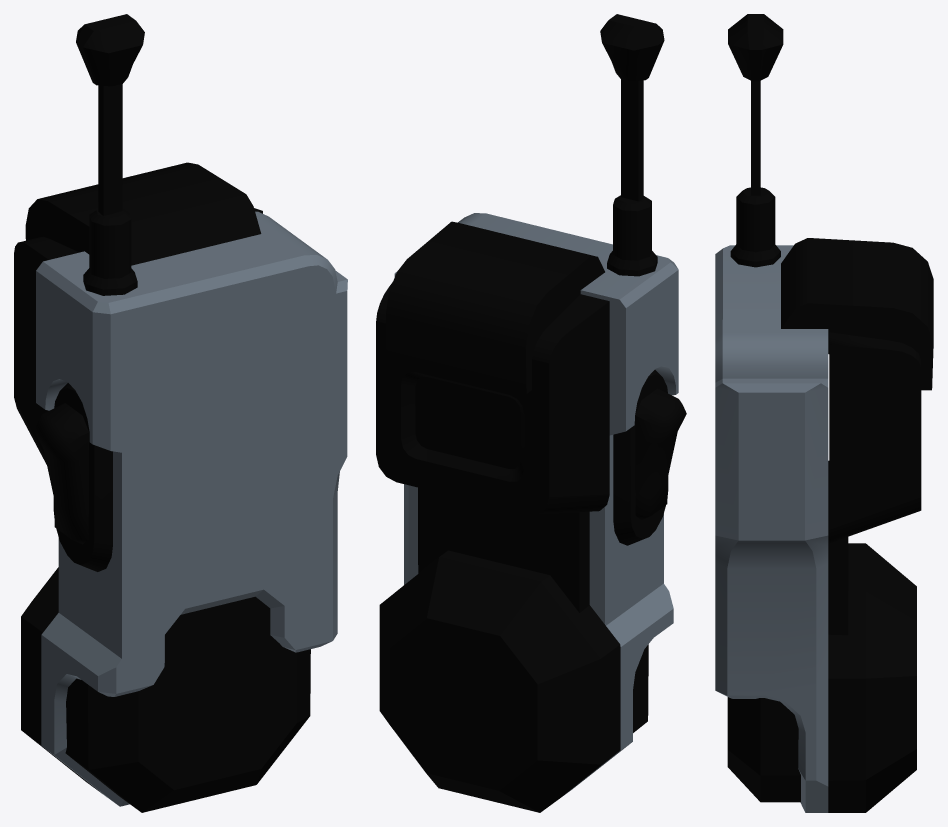
File: eff_2deffectmeshes_walkytalky_pose0.fbx
3 views of the same model, side by side, from view 1: azimuth 30°, elevation 25°; view 2: azimuth 150°, elevation 25°; view 3: azimuth 270°, elevation 25° (orthographic). The views are drawn at different scales.
Parts seen in each view (by area): view 1: char_npc_scoutfarmer_walkytalky; view 2: char_npc_scoutfarmer_walkytalky; view 3: char_npc_scoutfarmer_walkytalky.
Boxes of the visible parts, left/top/right/bottom form: char_npc_scoutfarmer_walkytalky: left=14, top=14, right=347, bottom=812; char_npc_scoutfarmer_walkytalky: left=376, top=14, right=686, bottom=812; char_npc_scoutfarmer_walkytalky: left=715, top=14, right=933, bottom=812.
Size of the model in its own units: 1.02 by 2.79 by 0.7592.
